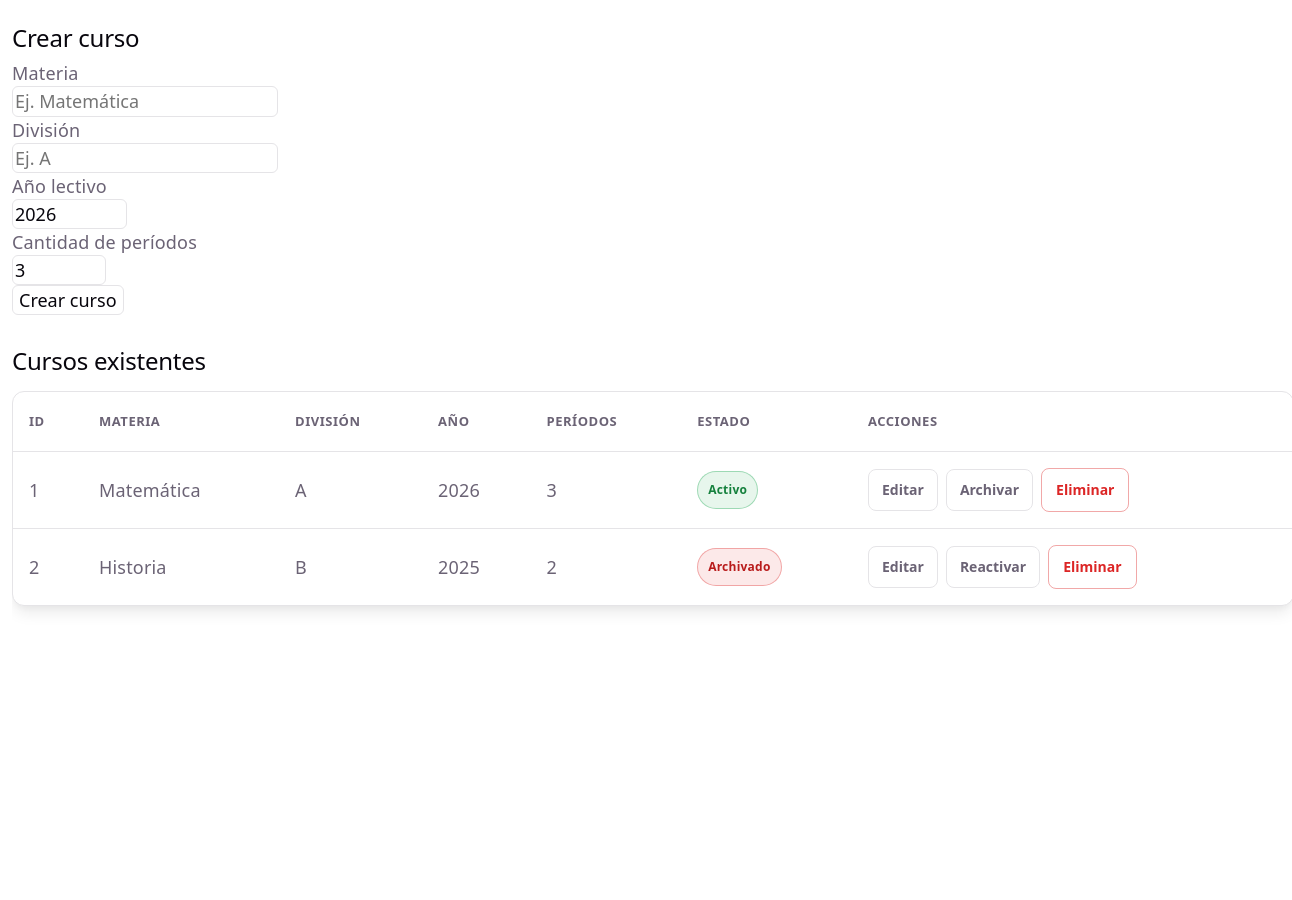
Test case: Cursos › pide confirmación antes de archivar un curso
Step 1. Click the button "Archivar" → point(990, 490), box [946,469,1033,511]
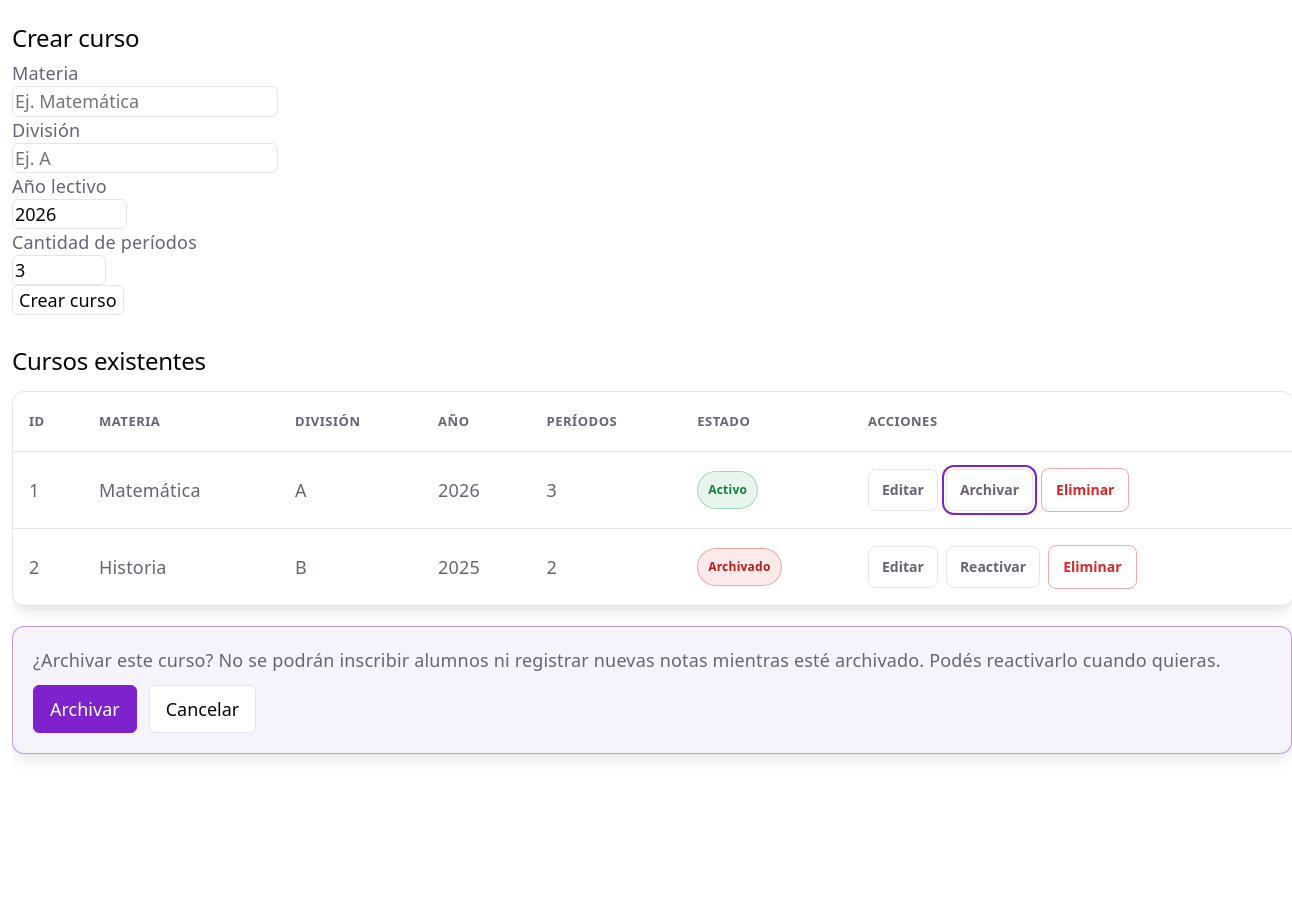
Step 2. Click the 2nd button "Archivar" → point(85, 709), box [33,685,137,733]
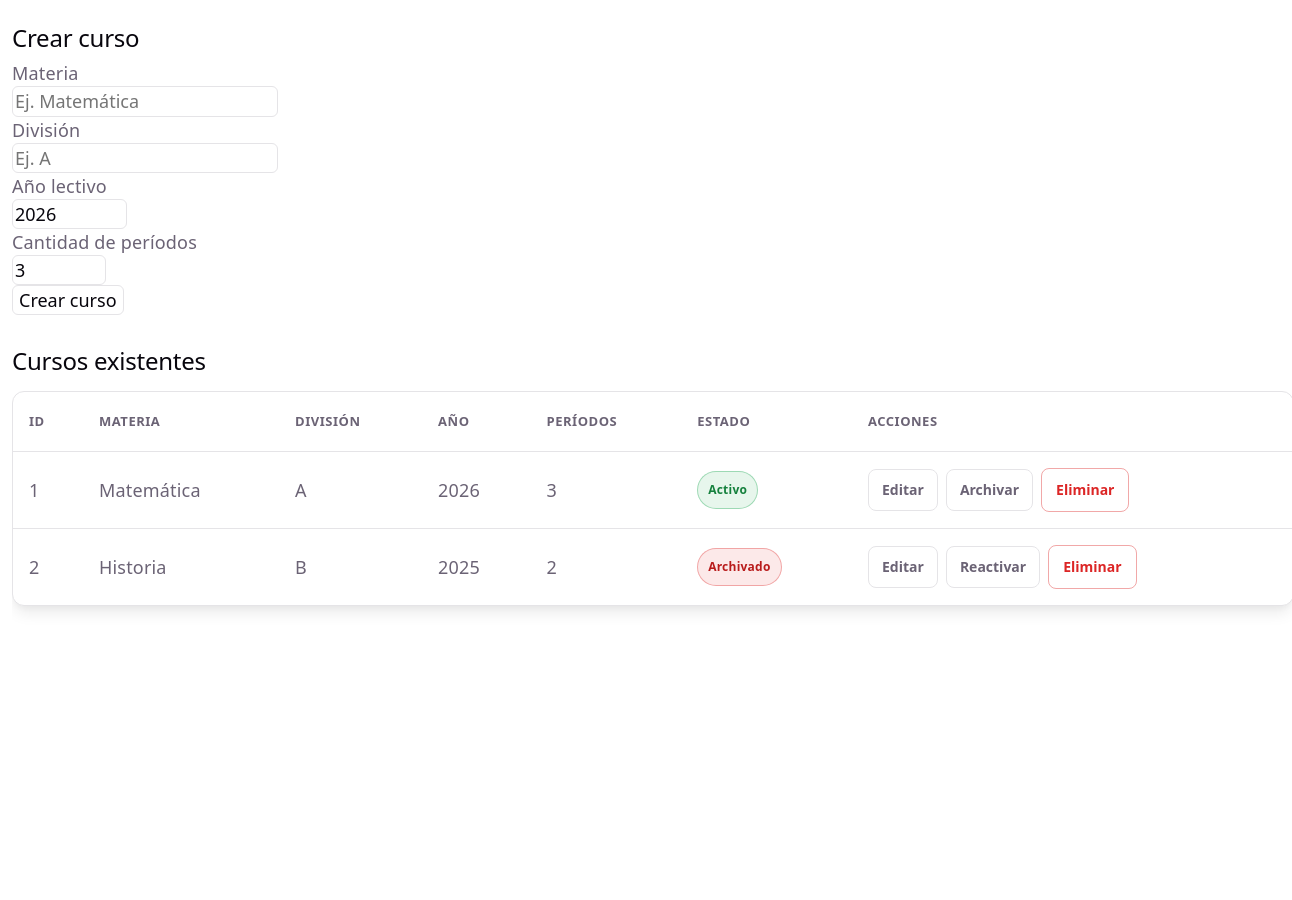
Result: the text "¿Archivar este curso?" is gone
